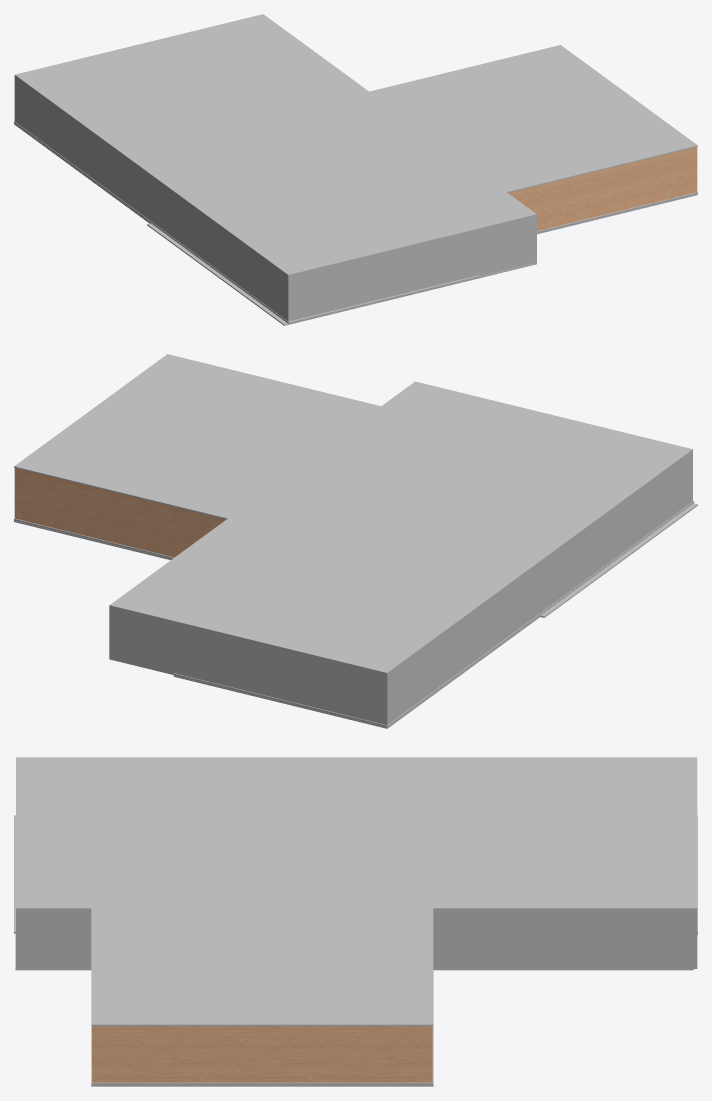
File: echoes_map_teste_text2.fbx
3 renders of one model, top to bottom at view 1: azimuth 30°, elevation 25°; view 2: azimuth 150°, elevation 25°; view 3: azimuth 270°, elevation 25°, orthographic. The views are drawn at different scales.
Parts seen in each view (by area): view 1: teto.001, parede.002, parede, parede.001, chao.002, rodape.002; view 2: teto.001, parede.001, parede, parede.002, rodape.001, chao.002, chao.001; view 3: teto.001, parede, rodape, chao.003, chao.002.
Part boxes in pixels (x1,y1,x2,y2): teto.001: [14, 14, 697, 276]; parede.002: [151, 176, 478, 321]; parede: [508, 147, 697, 230]; parede.001: [14, 76, 151, 221]; chao.002: [147, 223, 536, 325]; rodape.002: [151, 222, 479, 323]; teto.001: [14, 354, 692, 674]; parede.001: [174, 563, 539, 724]; parede: [14, 468, 225, 557]; parede.002: [540, 451, 692, 612]; rodape.001: [173, 613, 540, 727]; chao.002: [540, 503, 697, 617]; chao.001: [173, 615, 540, 728]; teto.001: [16, 757, 697, 1026]; parede: [92, 1026, 432, 1082]; rodape: [91, 1026, 433, 1084]; chao.003: [91, 969, 433, 1086]; chao.002: [15, 933, 693, 970].
Size of the model in its own units: 13116 by 1426 by 14046.
